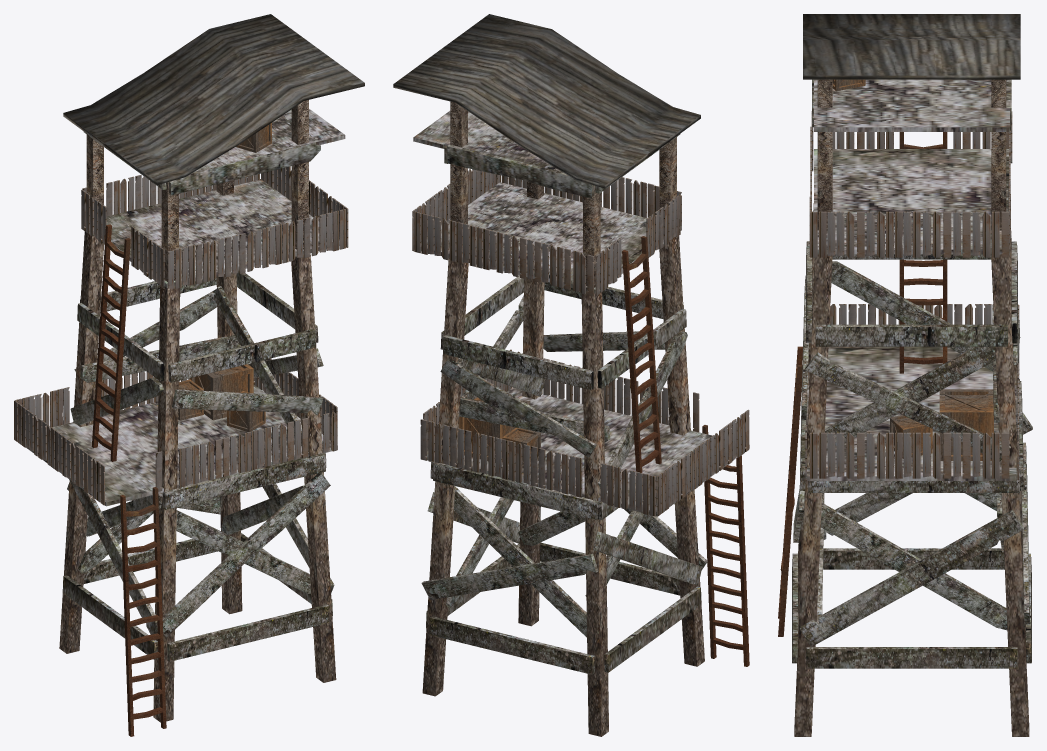
File: shitty_tower.glb
The picture shows the model from 3 angles, left to right: view 1: azimuth 30°, elevation 25°; view 2: azimuth 150°, elevation 25°; view 3: azimuth 270°, elevation 25°; orthographic projection. The views are drawn at different scales.
Parts seen in each view (by area): view 1: Object_7, Object_2, Object_5, Object_4, Object_6, Object_3; view 2: Object_7, Object_5, Object_2, Object_4, Object_6, Object_3; view 3: Object_7, Object_5, Object_2, Object_4, Object_6, Object_3.
Part boxes in pixels (x1,y1,x2,y2): Object_7: (26,109,345,661); Object_2: (59,100,336,722); Object_5: (14,166,348,505); Object_4: (63,14,364,184); Object_6: (91,224,166,736); Object_3: (178,123,271,431); Object_7: (413,111,749,674); Object_5: (412,169,749,516); Object_2: (422,101,704,736); Object_4: (393,14,700,188); Object_6: (622,236,749,666); Object_3: (459,397,540,468); Object_7: (792,79,1032,668); Object_5: (805,111,1019,480); Object_2: (794,79,1029,736); Object_4: (803,14,1020,79); Object_6: (778,132,947,636); Object_3: (832,79,993,460).
Bounding box in the file's own units: 3.17 × 6.89 × 2.34.
6 materials, 6 textured.
